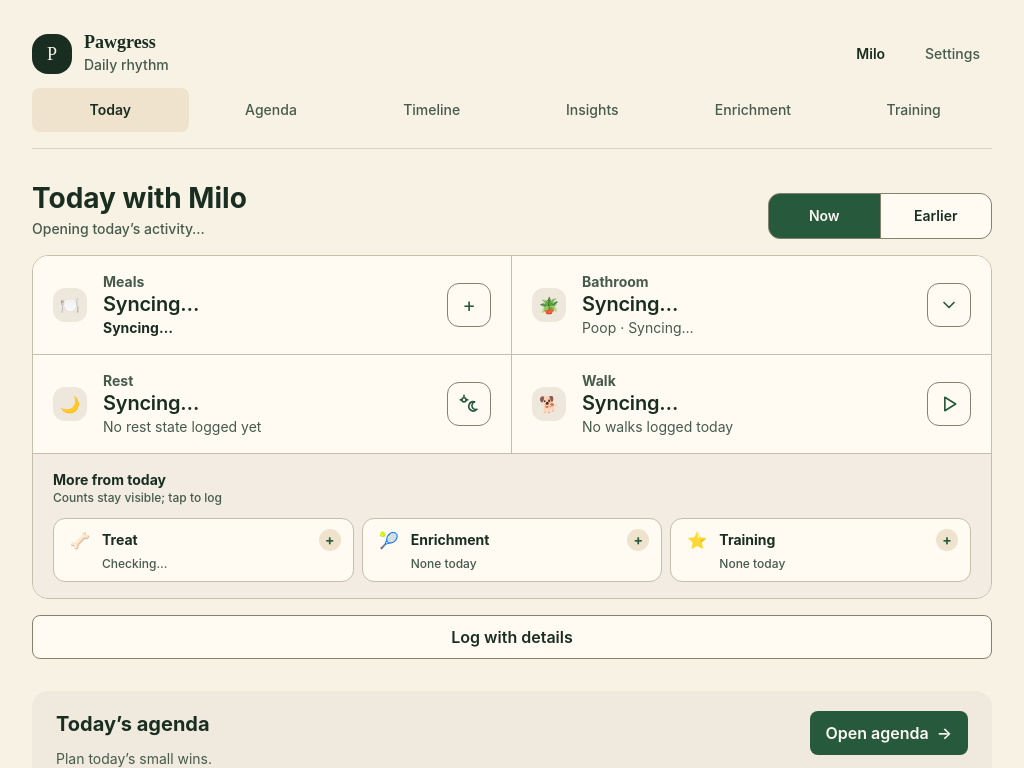
Test: DashboardPage quick logging › shows a clear error and unlocks actions after failure
Click the button named "Log bathroom". click: (949, 305)
box: [927, 283, 971, 327]
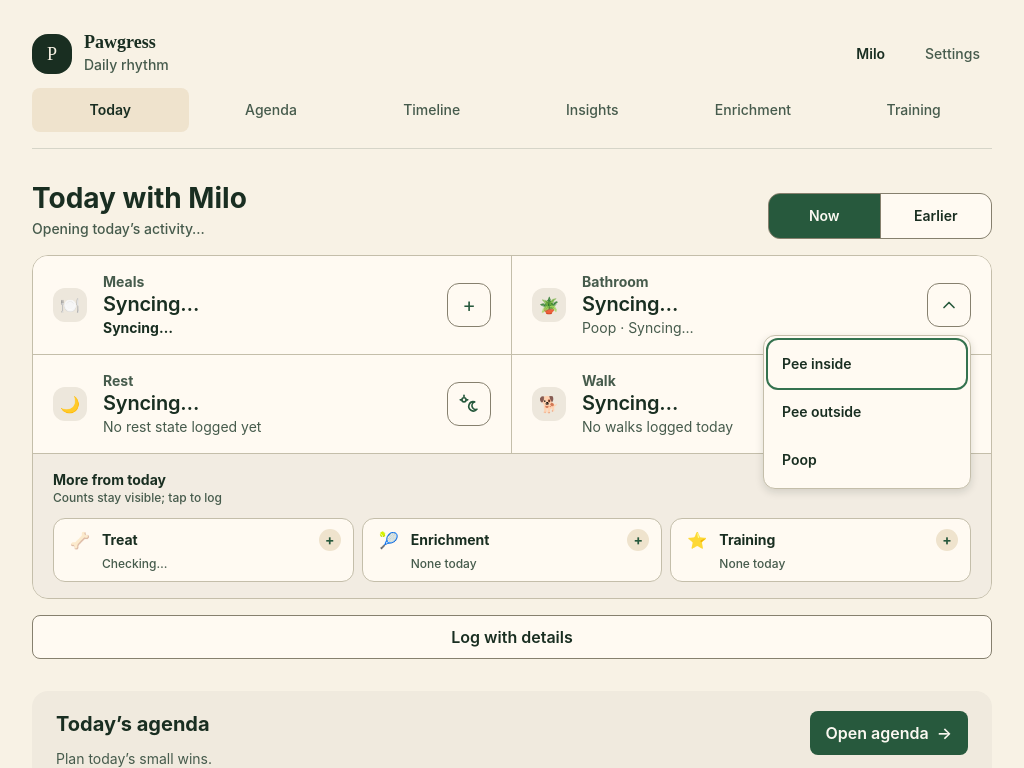
Click the button with aria-label "Log Poop". click: (867, 460)
box: [770, 438, 964, 482]
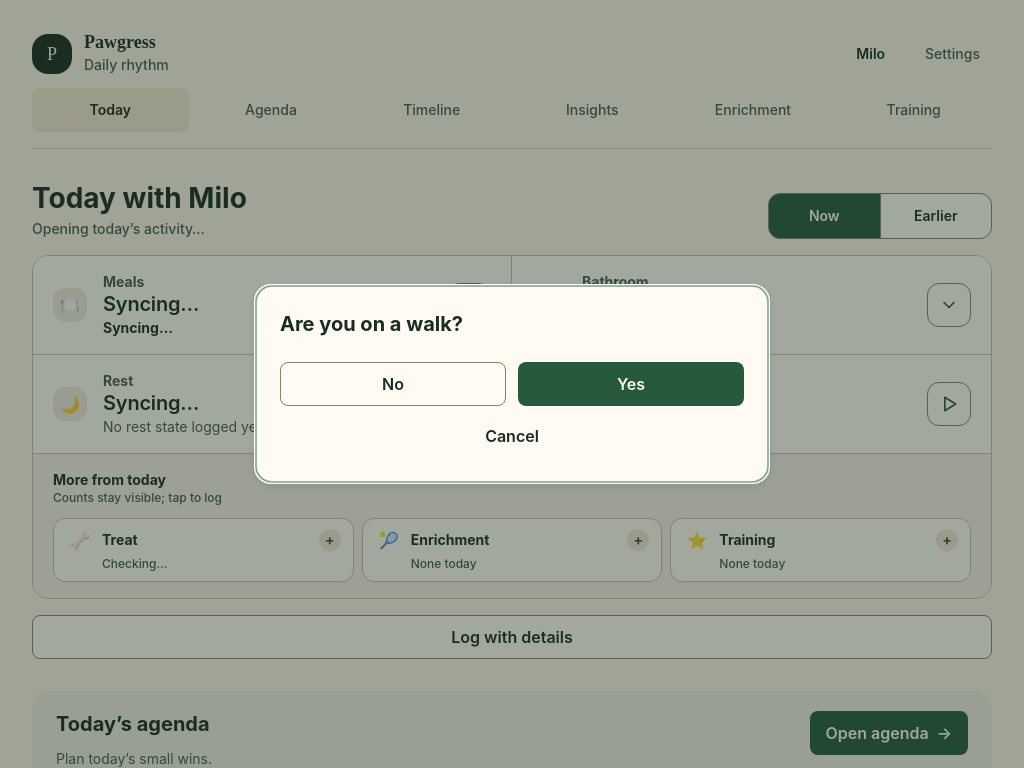
Click the button "No". click: (393, 384)
box: [280, 362, 506, 406]
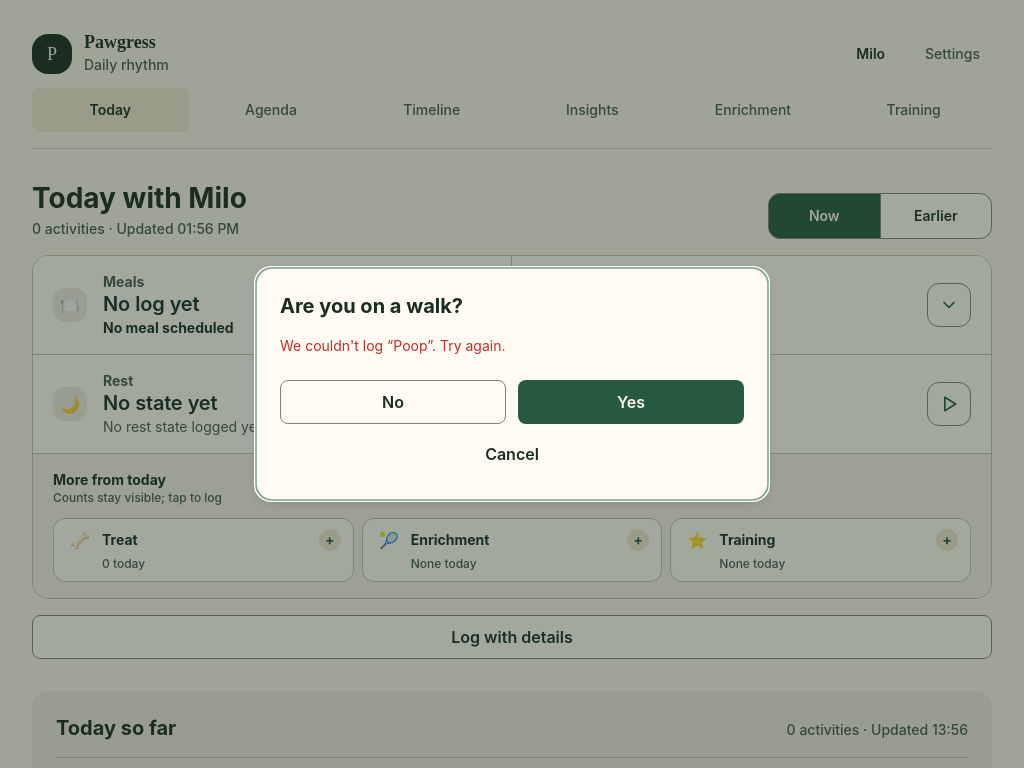
Expected: the button named "Log bathroom" is enabled, [927, 283, 971, 327]
Expected: the message reads "We couldn't log “Poop”. Try again.", [280, 337, 506, 354]
